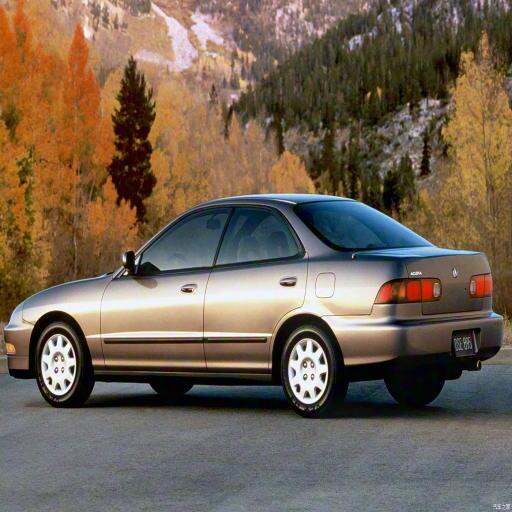Sedan-sDLz: (5, 194, 503, 417)
